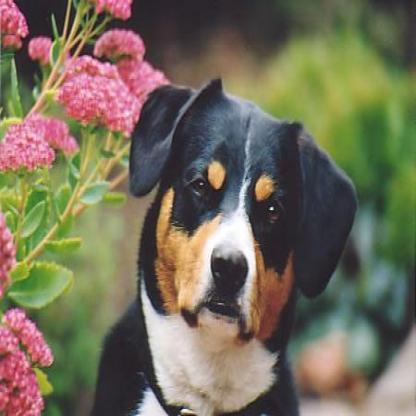EntleBucher: (92, 75, 356, 413)
